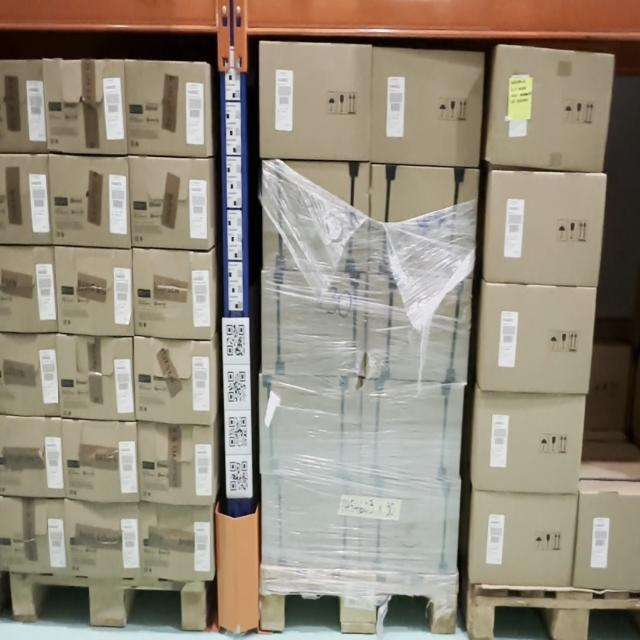box: (487, 43, 614, 172), (487, 170, 606, 284), (261, 41, 371, 159), (369, 163, 479, 276), (481, 283, 595, 392), (374, 46, 478, 164), (366, 274, 472, 381), (262, 162, 369, 266), (475, 392, 586, 491), (262, 272, 363, 377), (472, 488, 577, 585), (361, 380, 463, 477), (260, 377, 358, 476), (360, 479, 461, 574), (262, 479, 360, 563), (49, 155, 132, 248), (44, 59, 126, 152), (128, 62, 206, 154), (55, 247, 134, 337), (56, 335, 135, 420), (132, 159, 207, 248), (135, 252, 211, 338), (573, 494, 640, 590), (62, 421, 138, 504), (136, 338, 212, 419), (65, 500, 141, 579), (0, 415, 66, 498), (0, 496, 69, 575), (141, 504, 213, 578), (141, 426, 212, 500), (0, 334, 62, 418), (0, 246, 58, 334), (0, 155, 53, 245), (0, 59, 47, 152)
